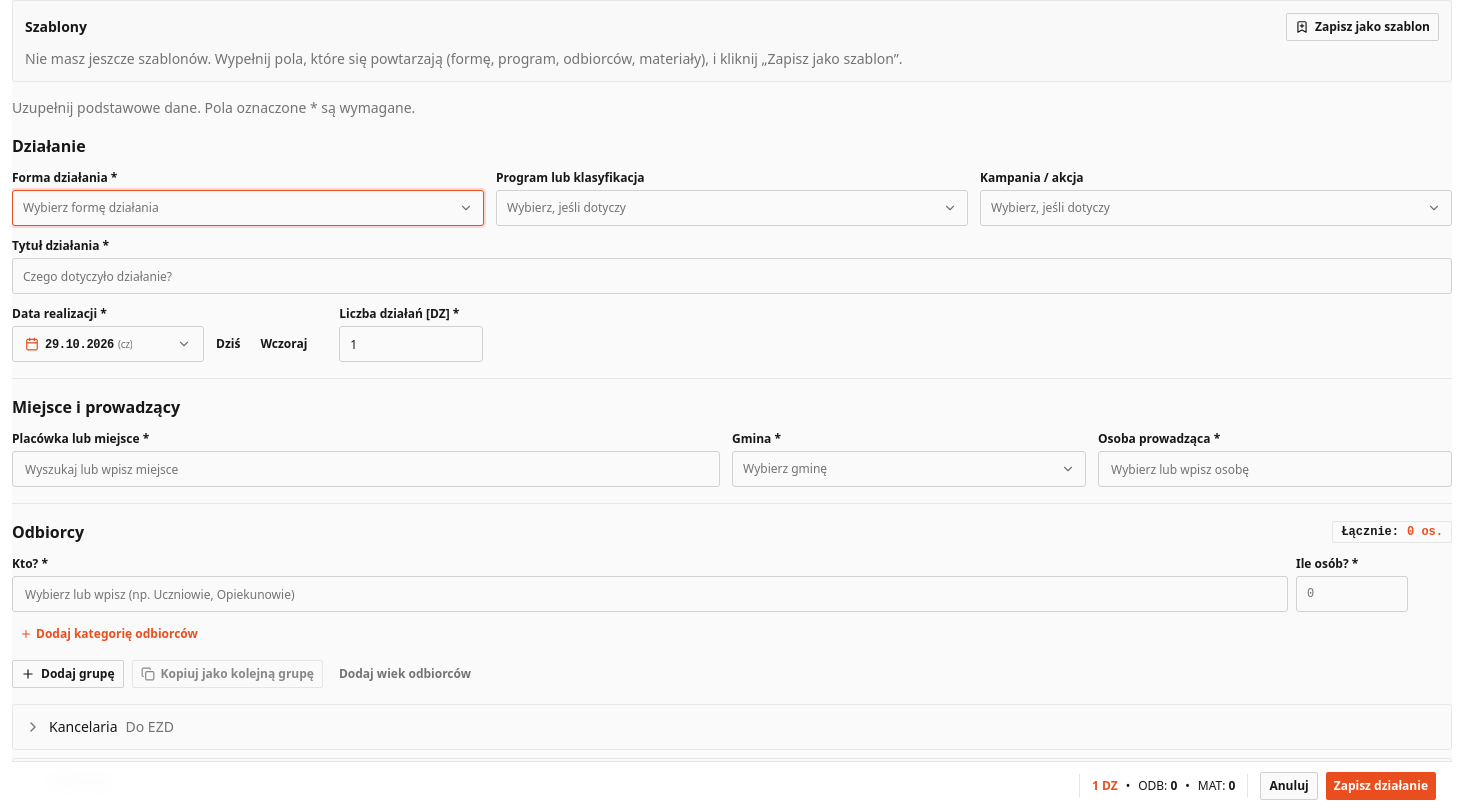
Test case: Quick action form › focuses the first missing field and never saves incomplete data
The width and height of the screenshot is (1464, 810).
Click the button "Zapisz działanie": click(1381, 786) [1326, 772, 1436, 800]
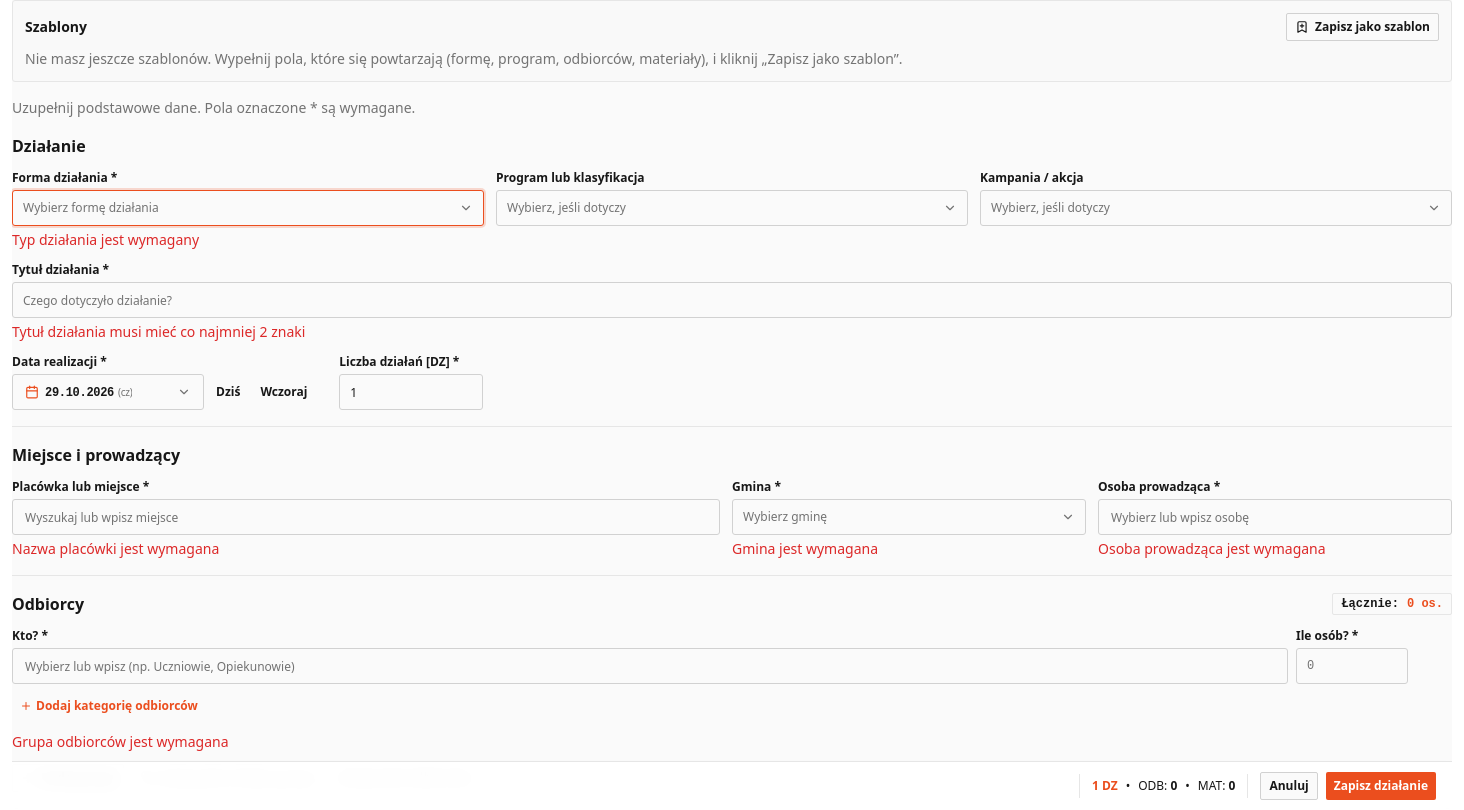
Check: the text "Grupa odbiorców jest wymagana" is shown, box [12, 732, 228, 751]
